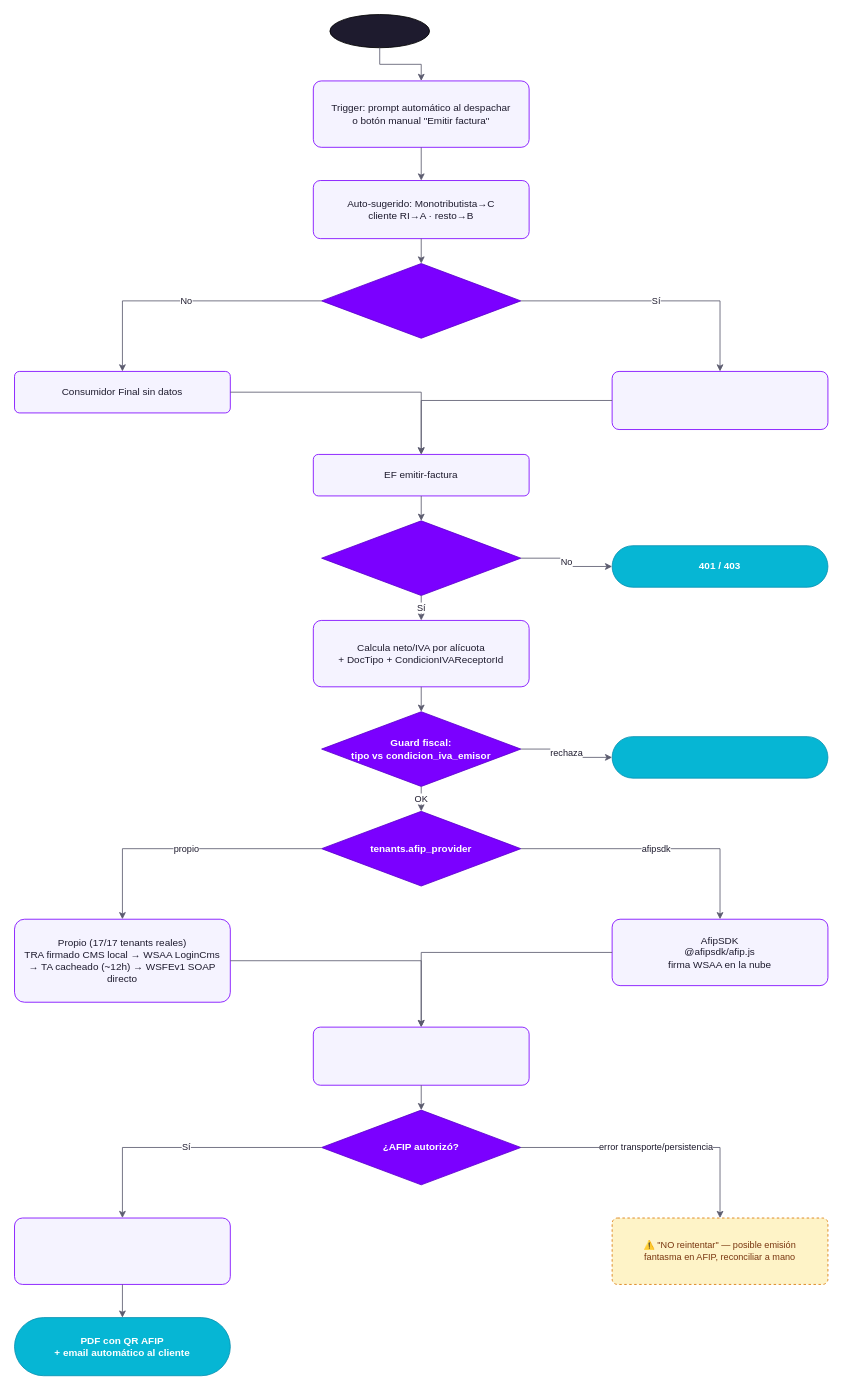
This 842x1390 diagram has some shape labels left out. Each missing label, with the centre of its shape:
"400 rechazado" goes at pixel 719 757.
"DNI/CUIT + nombre obligatorio guard server-side FAC-27" goes at pixel 719 400.
"Guarda CAE + vencimiento + numero_comprobante venta: despachada → facturada" goes at pixel 122 1250.
"Inicio" goes at pixel 379 31.
"Pide próximo N° a FECompUltimoAutorizado (nunca contador local)" goes at pixel 420 1055.
"¿Usuario del tenant o service_role?" goes at pixel 421 558.
"¿Venta ≥ umbral Factura B?" goes at pixel 421 300.
